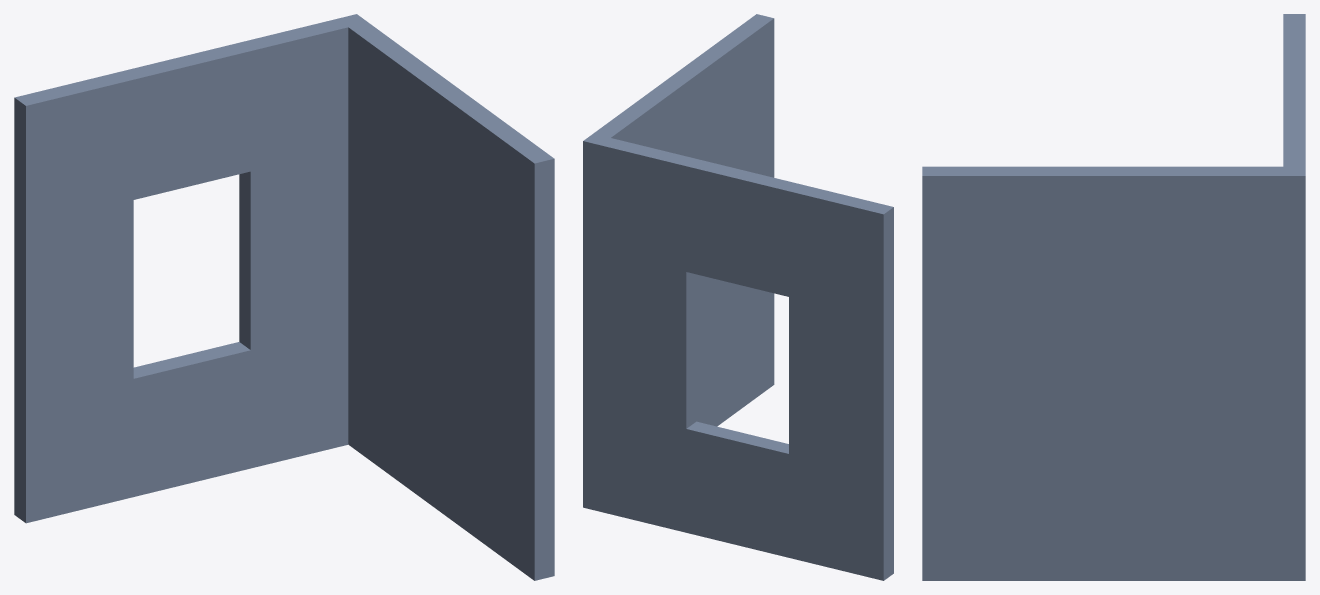
Rendered from Wall3_C1_07.fbx.
3 renders of one model, left to right at view 1: azimuth 30°, elevation 25°; view 2: azimuth 150°, elevation 25°; view 3: azimuth 270°, elevation 25°, orthographic. The views are drawn at different scales.
Visible parts, largest first — view 1: Wall3_C1_07; view 2: Wall3_C1_07; view 3: Wall3_C1_07.
Part boxes in pixels (box(x1,y1,x2,y2)): Wall3_C1_07: box(14, 14, 554, 580); Wall3_C1_07: box(583, 14, 893, 580); Wall3_C1_07: box(922, 14, 1305, 580).
Bounding box in the file's own units: 258 × 300 × 258.
